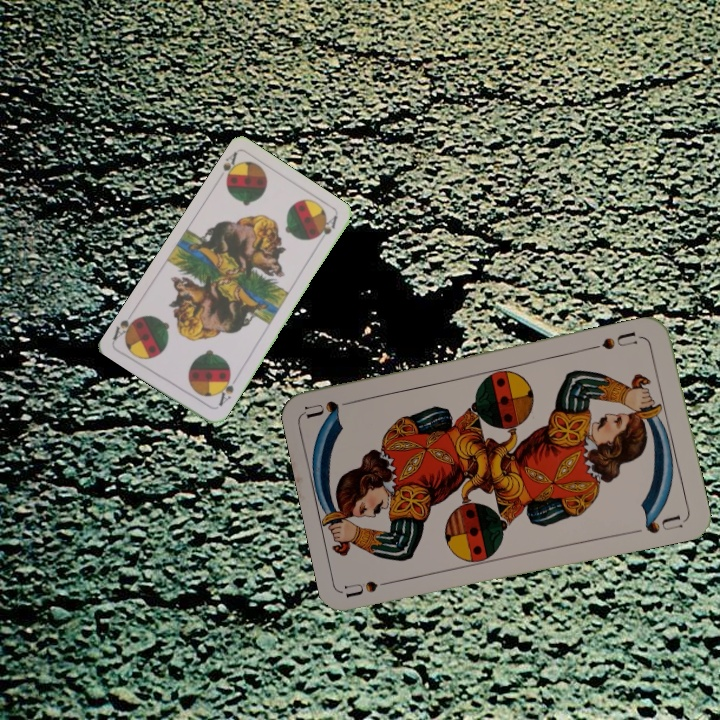SA: (219, 148, 245, 189), (213, 371, 240, 409)
SU: (342, 575, 402, 600), (598, 327, 639, 353)
